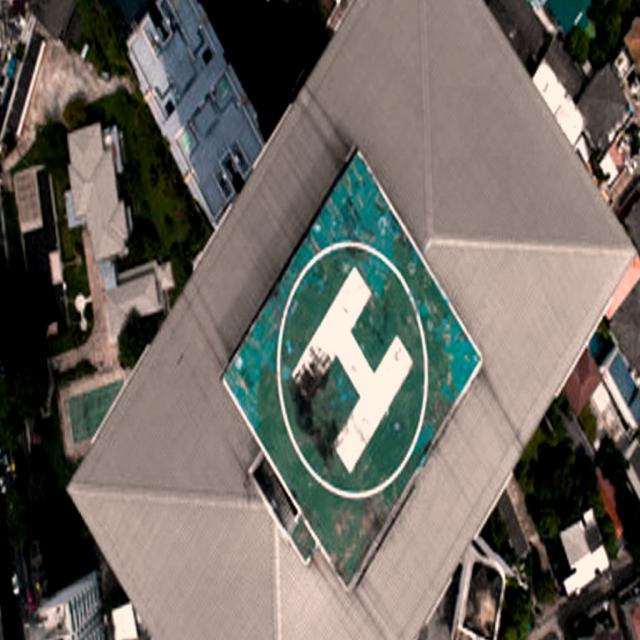helipad: (270, 235, 434, 502)
